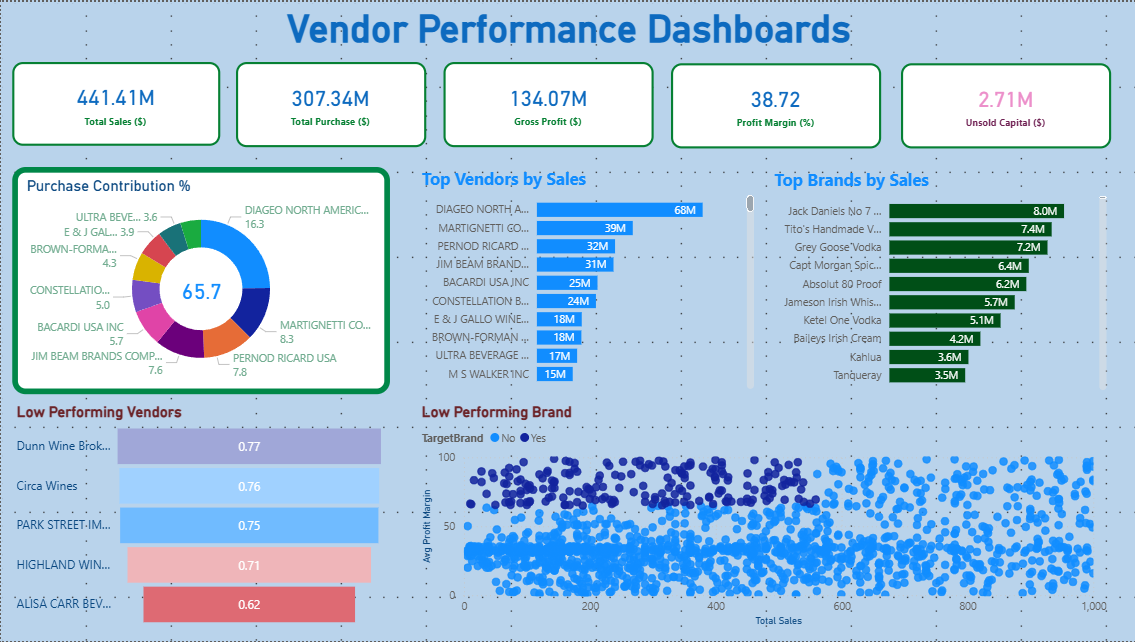

Layout of this report page (visuals, bound fields, positions):
{"tool":"powerbi","page":{"name":"Page 1","canvas":[1280,720],"ordinal":0},"visuals":[{"type":"card","fields":{"Values":["Sum(inventory vendor_sales_summary.TotalSalesDollars)"]},"box":[12.9,67.1,234.3,94.3],"z":0},{"type":"card","fields":{"Values":["Sum(inventory vendor_sales_summary.TotalPurchaseDollars)"]},"box":[264.3,67.1,214.3,95.7],"z":1000},{"type":"card","fields":{"Values":["Sum(inventory vendor_sales_summary.GrossProfit)"]},"box":[498.6,67.1,237.1,95.7],"z":2000},{"type":"card","fields":{"Values":["Avg(inventory vendor_sales_summary.ProfitMargin)"]},"box":[754.3,68.6,237.1,95.7],"z":3000},{"type":"card","fields":{"Values":["Sum(inventory vendor_sales_summary.UnsoldCapital)"]},"box":[1014.3,68.6,237.1,95.7],"z":4000},{"type":"donutChart","title":"Purchase Contribution % ","fields":{"Y":["Sum(PurchaseContribution.PurchaseContribution%)"],"Category":["PurchaseContribution.VendorName"]},"box":[12.9,185.7,425.7,255.7],"z":5000},{"type":"card","fields":{"Values":["PurchaseContribution.Top 10 Contribution"]},"box":[184.3,301.4,82.9,47.1],"z":6000},{"type":"clusteredBarChart","title":"Top Vendors by Sales ","fields":{"Category":["inventory vendor_sales_summary.VendorName"],"Y":["Sum(inventory vendor_sales_summary.TotalSalesDollars)"]},"box":[469.2,185.9,384.6,255.1],"z":7000},{"type":"clusteredBarChart","title":"Top Brands by Sales","fields":{"Y":["Sum(inventory vendor_sales_summary.TotalSalesDollars)"],"Category":["inventory vendor_sales_summary.Description"]},"box":[866.7,187.2,384.6,255.1],"z":8000},{"type":"funnel","title":"Low Performing Vendors","fields":{"Category":["LowTurnoverVendor.VendorName"],"Y":["Avg(LowTurnoverVendor.AvgStockTurnOver)"]},"box":[12.8,452.6,425.6,256.4],"z":9000},{"type":"scatterChart","title":"Low Performing Brand","fields":{"Category":["BrandPerformance.Description"],"X":["Sum(BrandPerformance.TotalSales)"],"Y":["Sum(BrandPerformance.AvgProfitMargin)"],"Series":["BrandPerformance.TargetBrand"]},"box":[469.2,452.6,782.1,256.4],"z":10000},{"type":"textbox","box":[0,0,1279.7,67.1],"z":11000}]}

Visuals, with their boxes in screenshot pixels (x1, y1, x2, y2), scaled from the page's 1280x720 canvas onto the 1135x642 screenshot:
card - Sum(inventory vendor_sales_summary.TotalSalesDollars): bbox=[11, 60, 219, 144]
card - Sum(inventory vendor_sales_summary.TotalPurchaseDollars): bbox=[234, 60, 424, 145]
card - Sum(inventory vendor_sales_summary.GrossProfit): bbox=[442, 60, 652, 145]
card - Avg(inventory vendor_sales_summary.ProfitMargin): bbox=[669, 61, 879, 147]
card - Sum(inventory vendor_sales_summary.UnsoldCapital): bbox=[899, 61, 1110, 147]
"Purchase Contribution % " donutChart: bbox=[11, 166, 389, 394]
card - PurchaseContribution.Top 10 Contribution: bbox=[163, 269, 237, 311]
"Top Vendors by Sales " clusteredBarChart: bbox=[416, 166, 757, 393]
"Top Brands by Sales" clusteredBarChart: bbox=[769, 167, 1110, 394]
"Low Performing Vendors" funnel: bbox=[11, 404, 389, 632]
"Low Performing Brand" scatterChart: bbox=[416, 404, 1110, 632]
textbox: bbox=[0, 0, 1134, 60]
